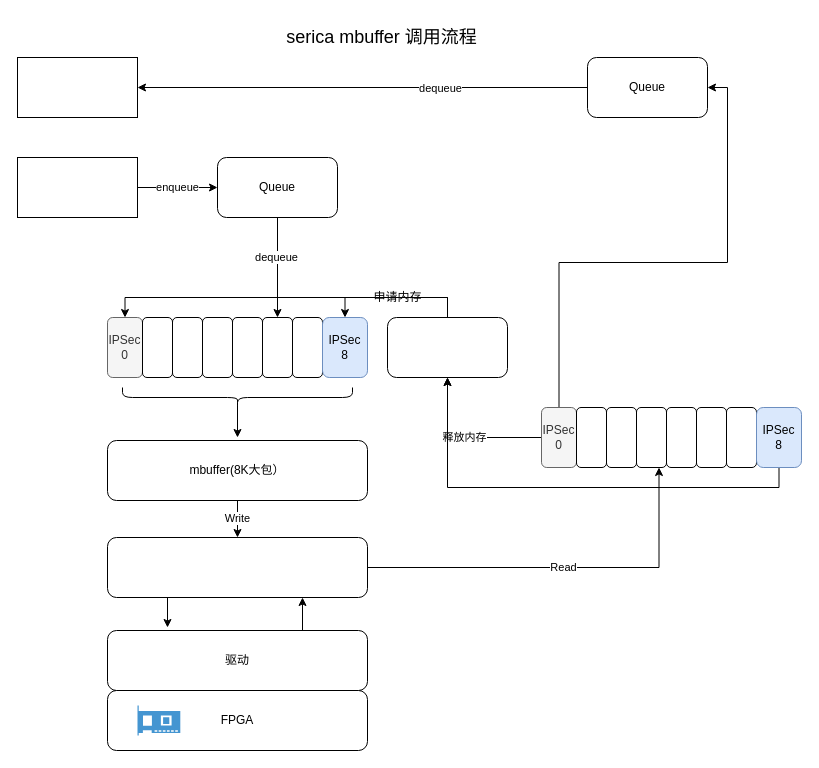
This 819x768 diagram has some shape labels left out. Here are the shapes that lost their labels. From the top down, the centre of each, then its label:
the point at 77,87: IPSec 异步回调
the point at 77,187: IPSec加解密请求
the point at 447,347: free_list(内存池
the point at 237,567: SDF接口
